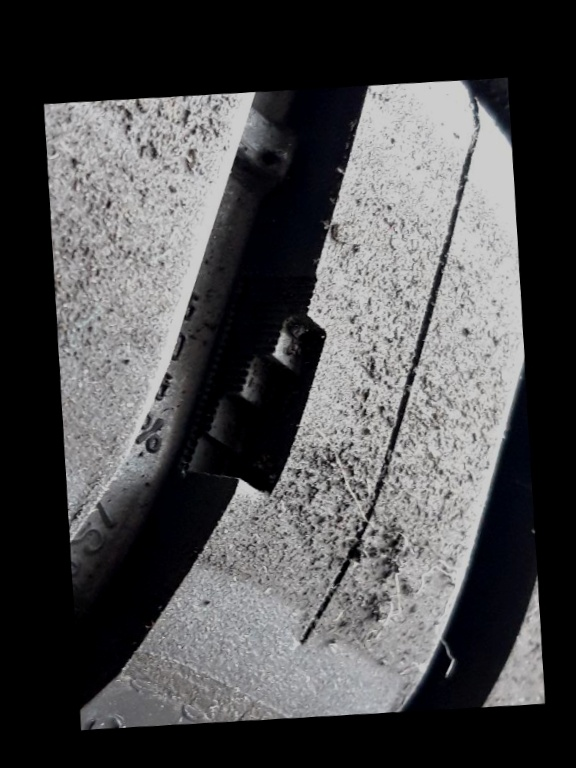temoin:95: (153, 254, 350, 520)
